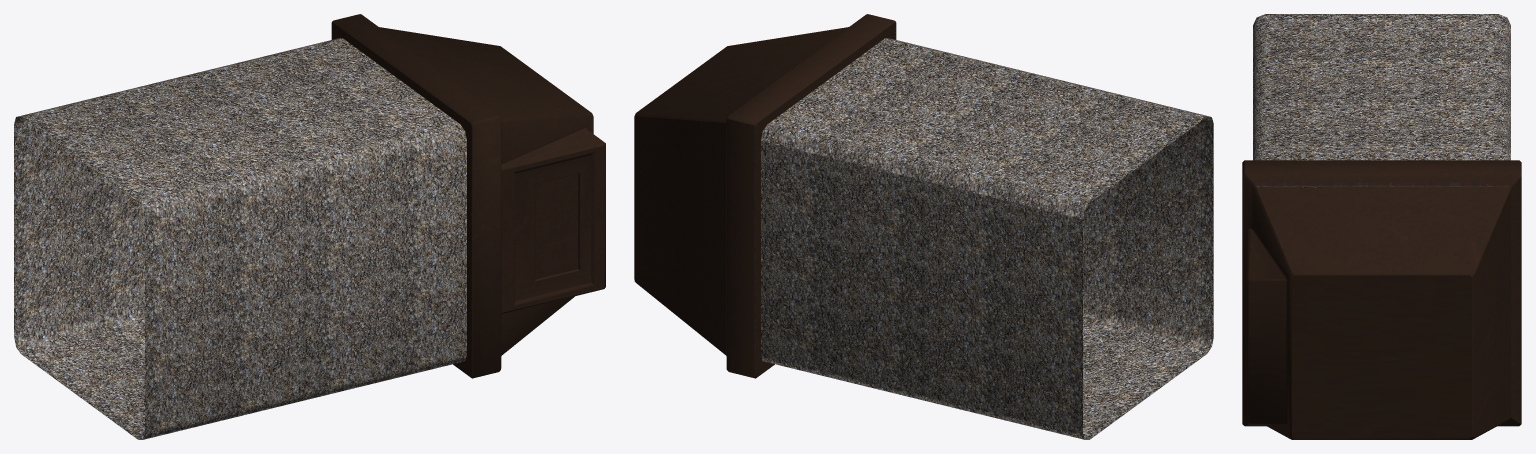
Rendered from cP_GarbageBin01.dae.
3 views of the same model, side by side, from view 1: azimuth 30°, elevation 25°; view 2: azimuth 150°, elevation 25°; view 3: azimuth 270°, elevation 25° (orthographic).
Visible parts, largest first — view 1: cP_GarbageBin01.001; view 2: cP_GarbageBin01.001; view 3: cP_GarbageBin01.001.
Boxes of the visible parts, x1,y1,x2,y2 form: cP_GarbageBin01.001: [14, 14, 605, 439]; cP_GarbageBin01.001: [634, 14, 1213, 439]; cP_GarbageBin01.001: [1242, 14, 1521, 439].
Size of the model in its own units: 1.47 by 0.7705 by 0.7705.
